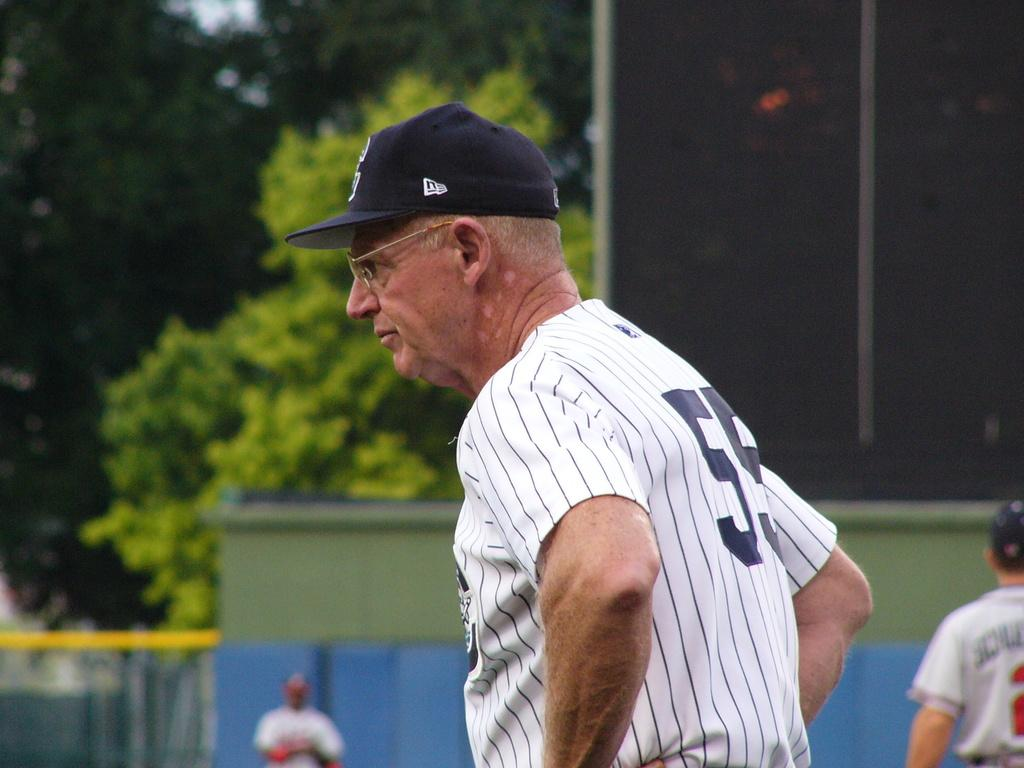Hat: (281, 98, 557, 254), (988, 498, 1024, 564)
